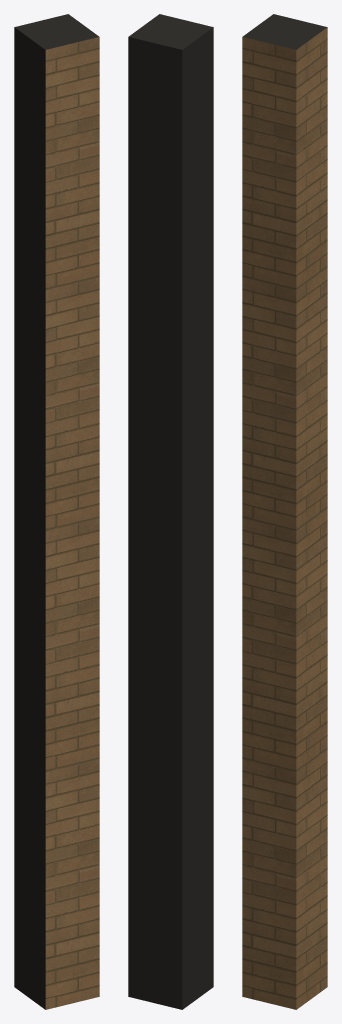
The model's file is GYM_Brick_Wall_Tiny.fbx.
3 renders of one model, left to right at view 1: azimuth 30°, elevation 25°; view 2: azimuth 150°, elevation 25°; view 3: azimuth 330°, elevation 25°, orthographic.
Parts seen in each view (by area): view 1: GYM_Wall_Tiny_Brick; view 2: GYM_Wall_Tiny_Brick; view 3: GYM_Wall_Tiny_Brick.
Part boxes in pixels (x1,y1,x2,y2): GYM_Wall_Tiny_Brick: (14, 14, 99, 1009); GYM_Wall_Tiny_Brick: (128, 14, 213, 1009); GYM_Wall_Tiny_Brick: (242, 14, 327, 1009).
Bounding box in the file's own units: 0.5 × 8.5 × 0.5.
Materials: 2 (1 with a texture image).
